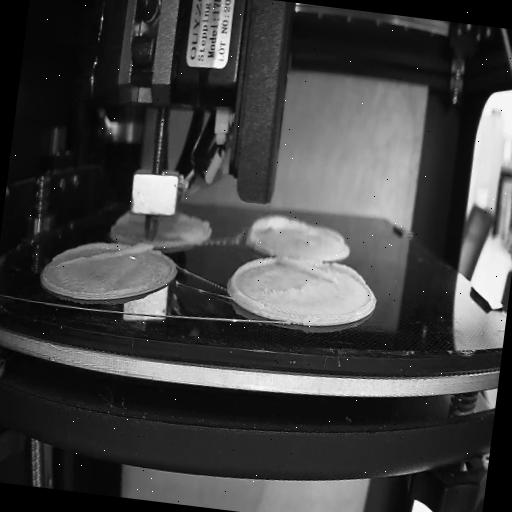over_extrusion: (58, 232, 154, 278), (228, 252, 280, 308), (280, 258, 367, 290), (248, 209, 306, 249), (312, 224, 345, 244)
